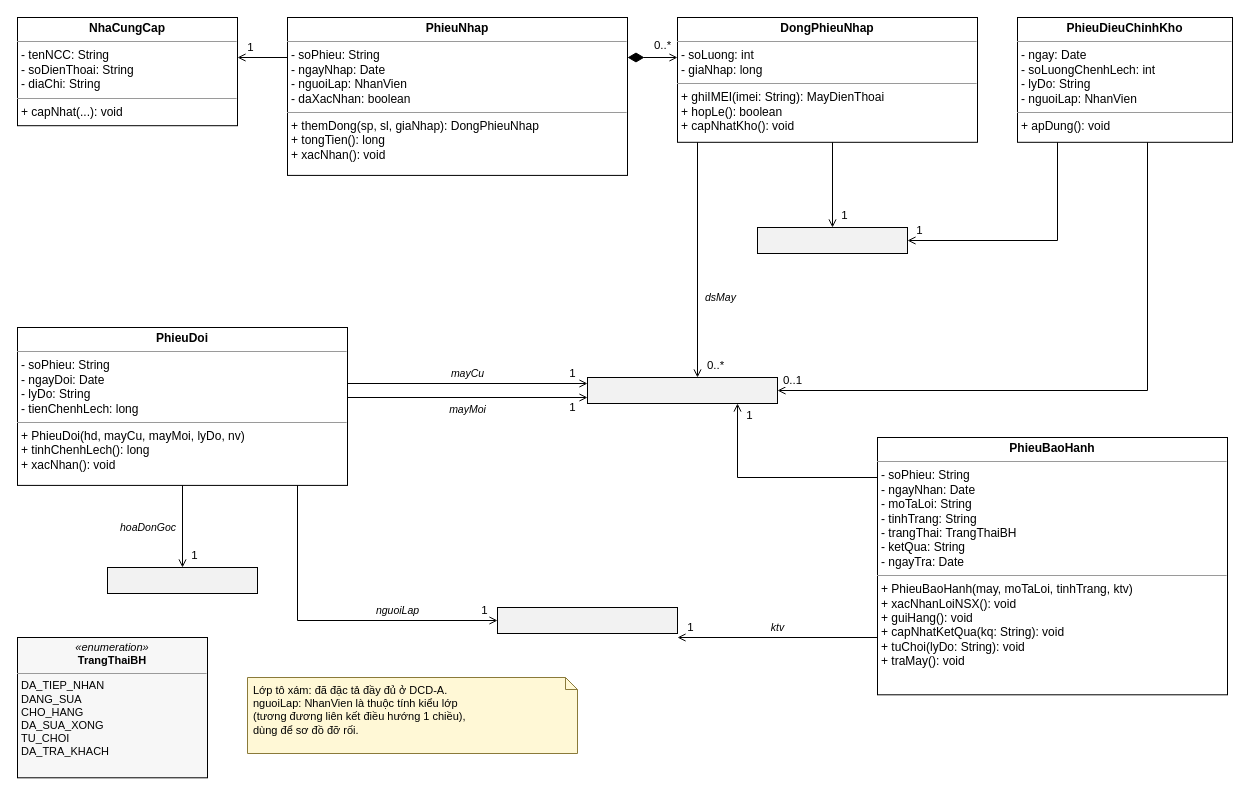
Image size: 1250x796. Some labels were removed from this diagram. Here are the shapes that lost their labels. From the top down, the centre of each, then its label:
the point at 832,240: SanPham
the point at 682,390: MayDienThoai
the point at 182,580: HoaDon
the point at 587,620: NhanVien
